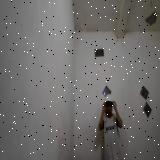Helmet: (104, 90, 115, 106)
